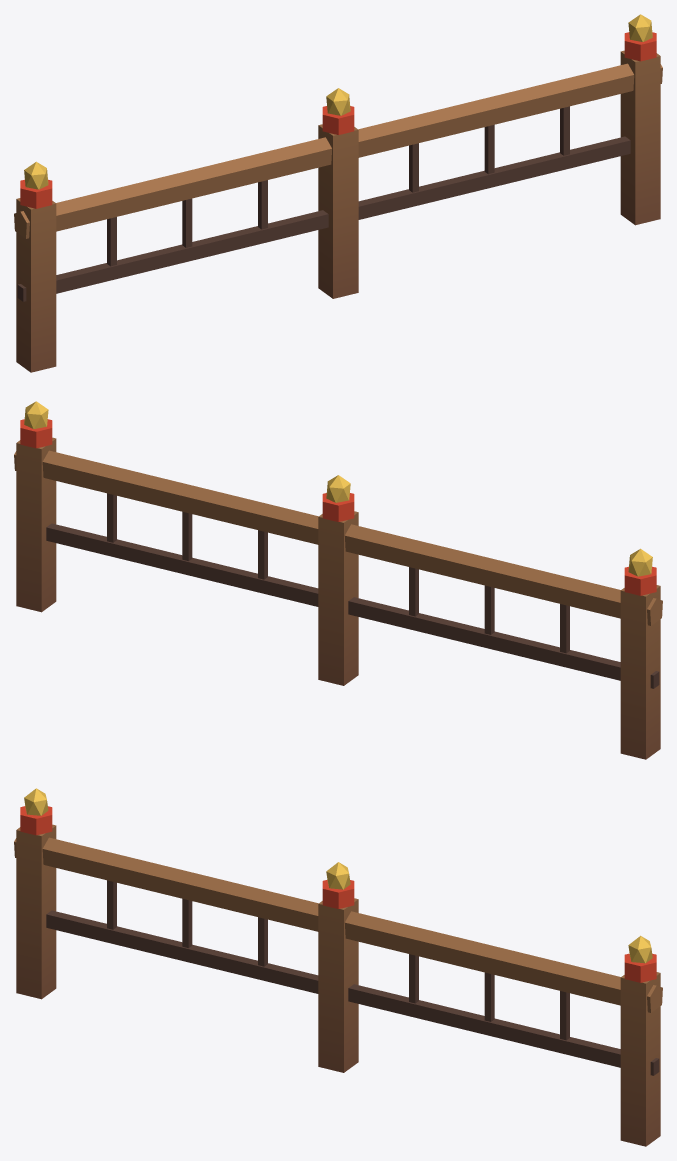
Rendered from bridge_rail.glb.
The picture shows the model from 3 angles, top to bottom: view 1: azimuth 30°, elevation 25°; view 2: azimuth 150°, elevation 25°; view 3: azimuth 330°, elevation 25°; orthographic projection.
Visible parts, largest first — view 1: bridge_rail; view 2: bridge_rail; view 3: bridge_rail.
Boxes of the visible parts, x1=… form: bridge_rail: x1=14, y1=14, x2=662, y2=372; bridge_rail: x1=14, y1=401, x2=662, y2=759; bridge_rail: x1=14, y1=788, x2=662, y2=1146.
Bounding box in the file's own units: 4 × 1.22 × 0.1732.
